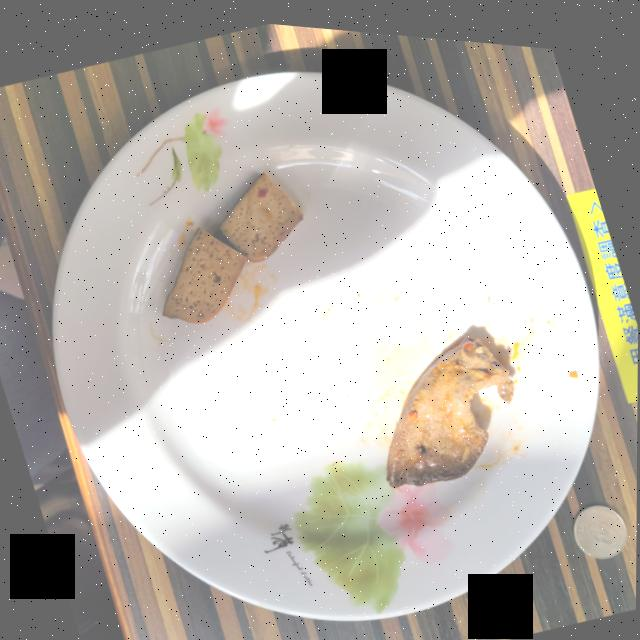coin: (574, 494, 627, 548)
firm tofu: (162, 168, 303, 320)
pig liver: (386, 328, 514, 481)
